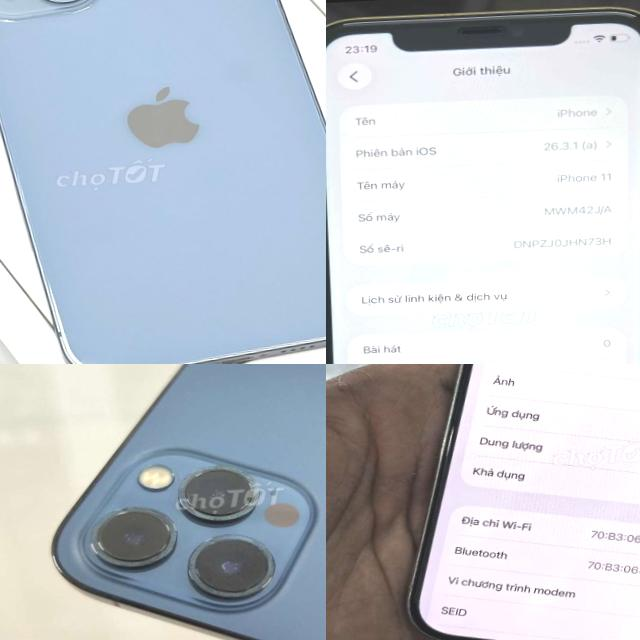gen_11: (326, 0, 640, 364)
gen_12_13: (31, 364, 326, 640)
gen_14: (0, 0, 326, 364), (379, 364, 640, 640)
